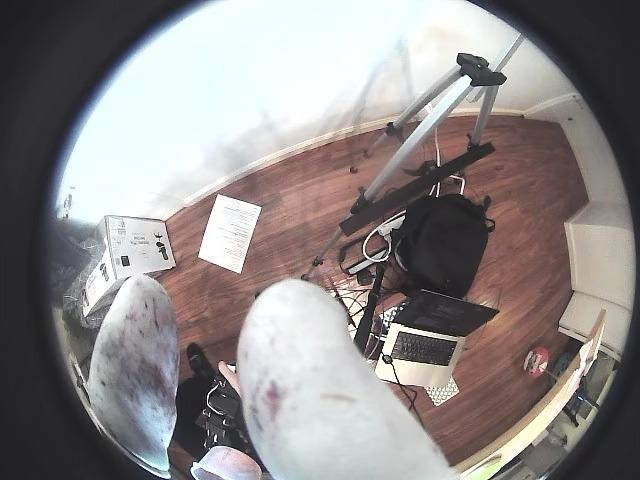gripper: (239, 283, 459, 479), (88, 278, 179, 476)
lense: (0, 0, 205, 479), (471, 0, 639, 479)
